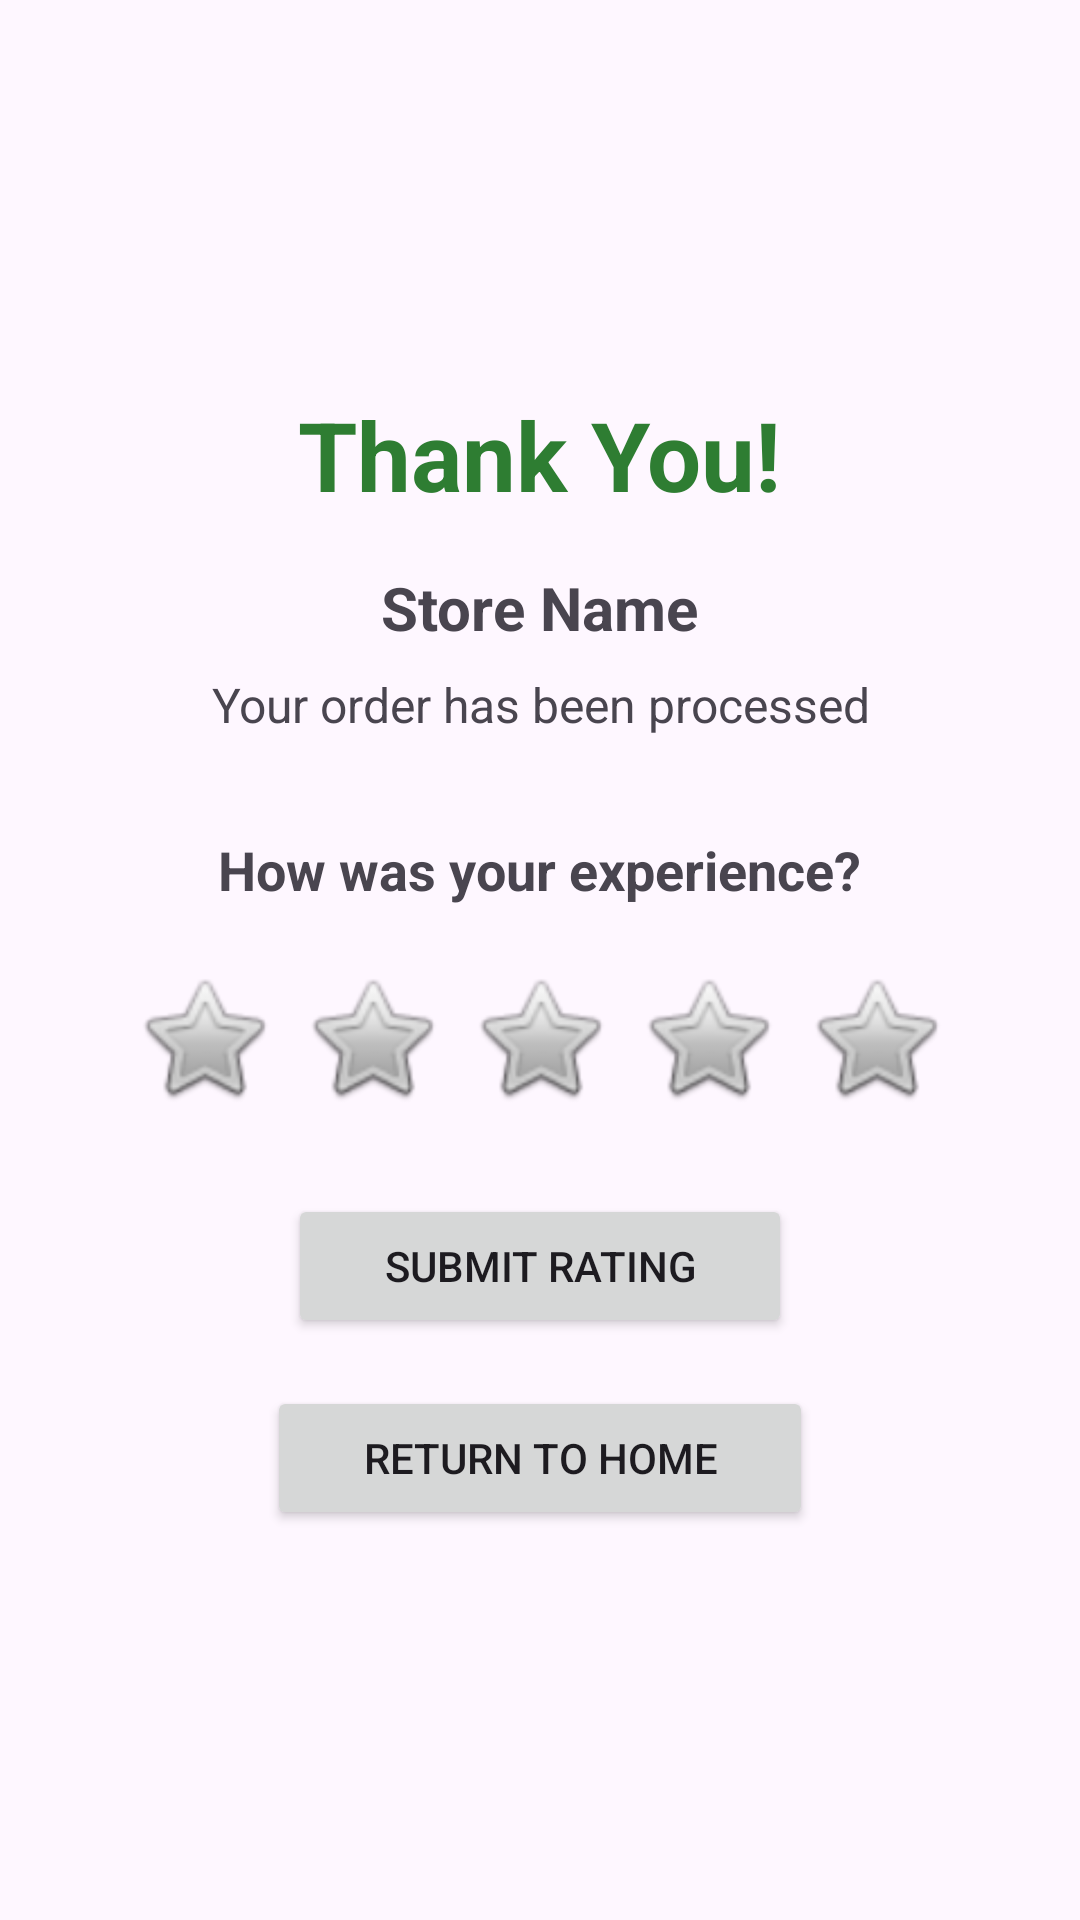

Where icons sit on this 1080 x 1920 app screen, as (x1, y1, x2, y2):
1 star: (145, 981, 265, 1098)
2 stars: (313, 981, 433, 1098)
3 stars: (481, 981, 601, 1098)
4 stars: (649, 981, 769, 1098)
5 stars: (817, 981, 937, 1098)
